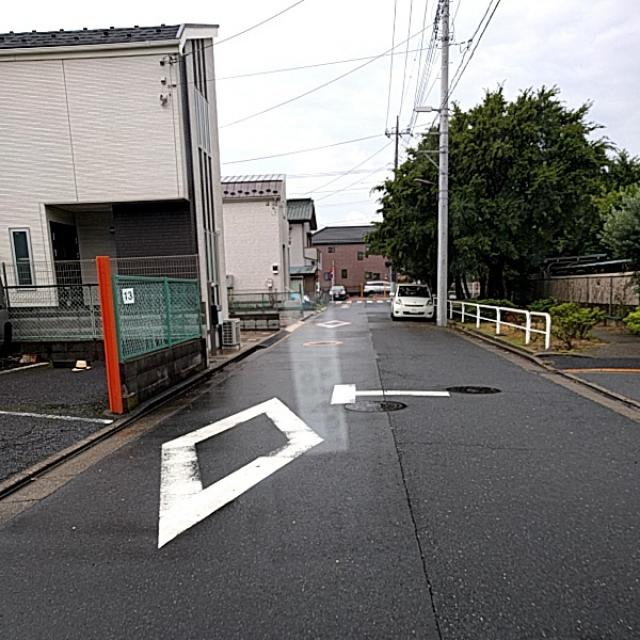pothole: (374, 432, 432, 501)
